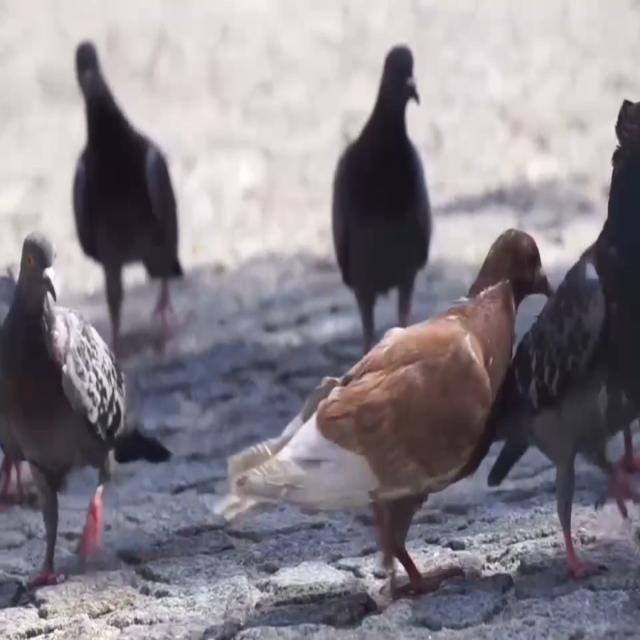bird: (201, 210, 562, 606), (471, 90, 640, 594), (0, 227, 130, 607), (64, 29, 195, 392), (317, 30, 442, 381), (1, 249, 52, 528)
